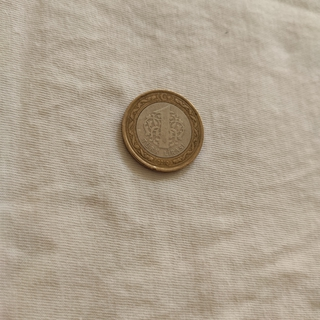1TL: (118, 88, 205, 174)
